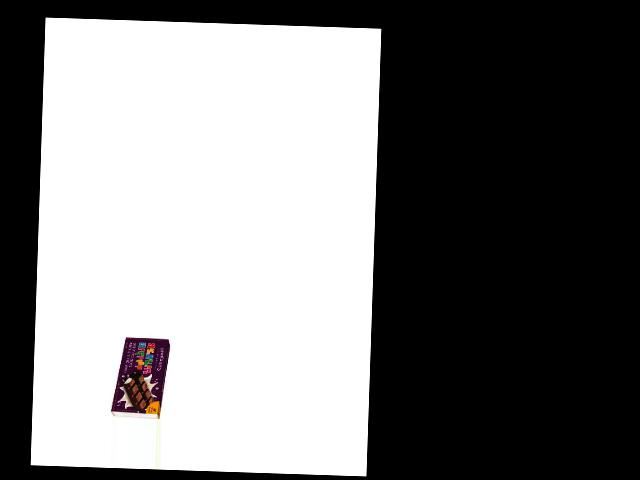chocolate: (114, 331, 170, 420)
